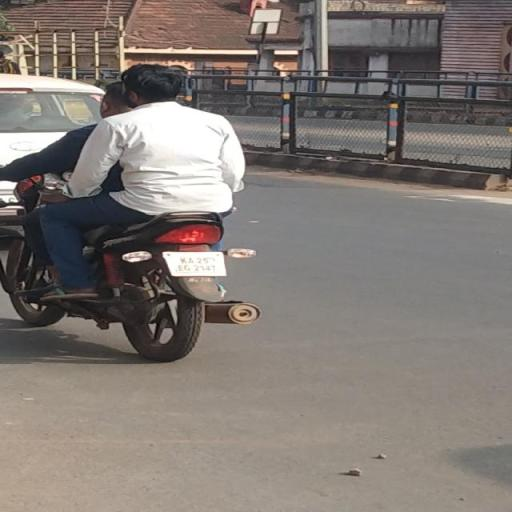bike: (0, 61, 270, 363)
numberplate: (163, 248, 228, 278)
withouthelmet: (123, 64, 183, 101), (102, 84, 124, 115)
